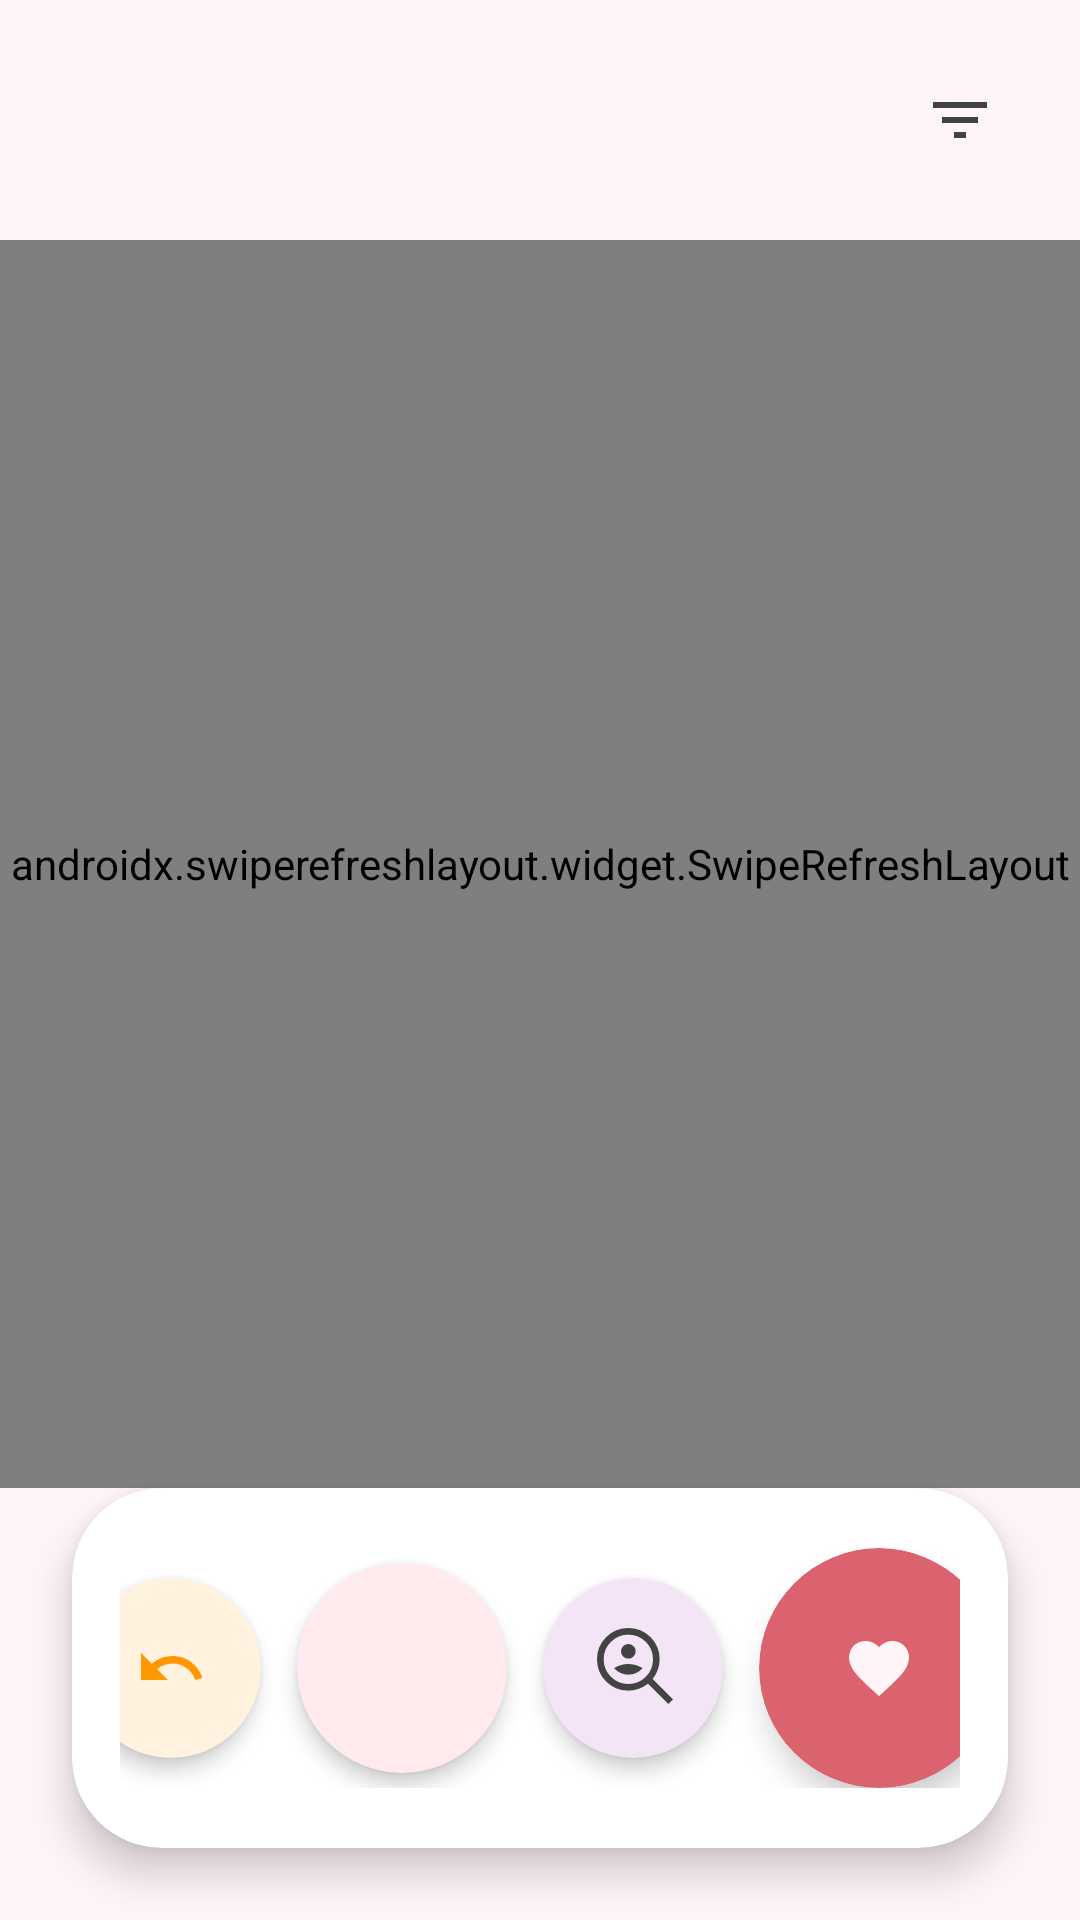

Icons on this 1080×1920 Android screen, each with the point to tap as (x=x, y=y):
Filter: (x=960, y=120)
like: (x=859, y=1668)
undo: (x=190, y=1668)
